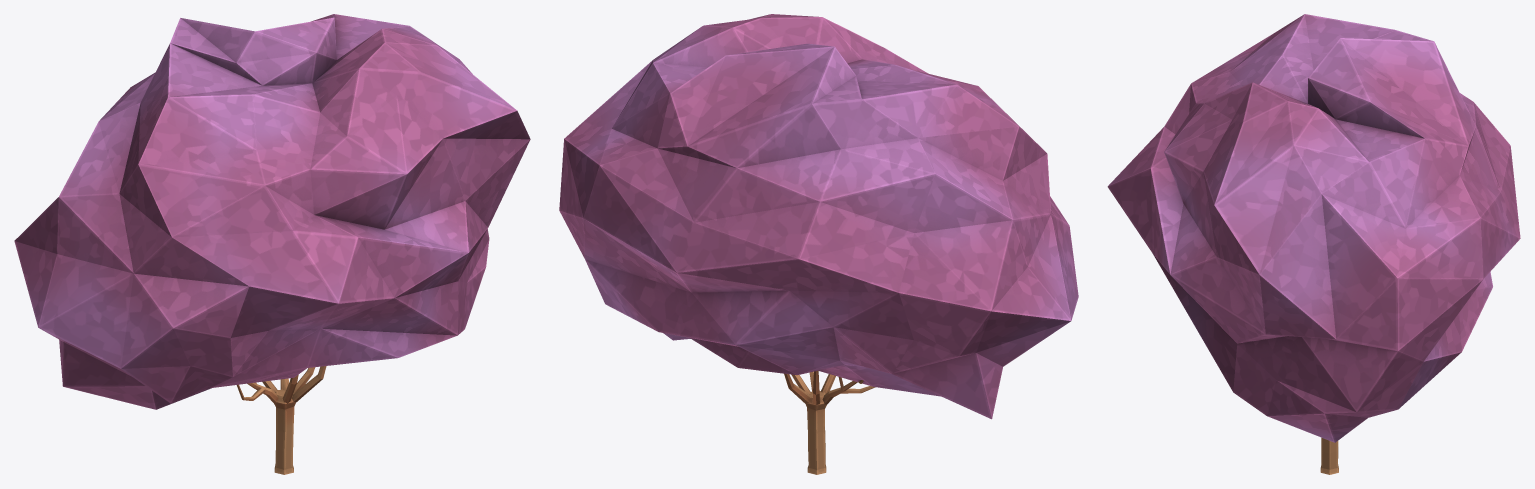
Rendered from CherryTree.obj.
3 renders of one model, left to right at view 1: azimuth 30°, elevation 25°; view 2: azimuth 150°, elevation 25°; view 3: azimuth 270°, elevation 25°, orthographic. The views are drawn at different scales.
Parts seen in each view (by area): view 1: CherryTree_mesh; view 2: CherryTree_mesh; view 3: CherryTree_mesh.
Part boxes in pixels (x1=…): CherryTree_mesh: x1=14, y1=14, x2=530, y2=474; CherryTree_mesh: x1=559, y1=14, x2=1078, y2=474; CherryTree_mesh: x1=1107, y1=14, x2=1520, y2=474.
Size of the model in its own units: 14.98 by 13.18 by 11.71.
1 material, 1 textured.
